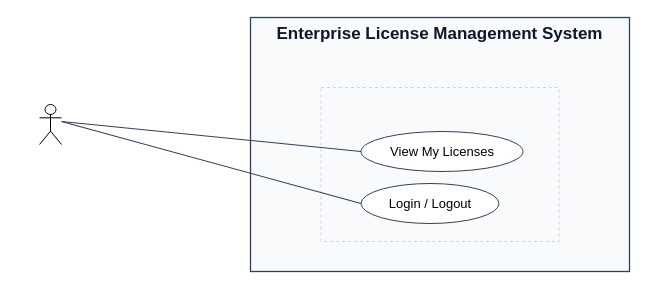
This 648x290 diagram has some shape labels left out. The shapes that lost their labels are listed below. From the top down, each one's box as (x1, y1, x2, y2) in pixels, then its label:
(38, 104, 62, 144): Employee
(320, 86, 559, 242): Self-service
